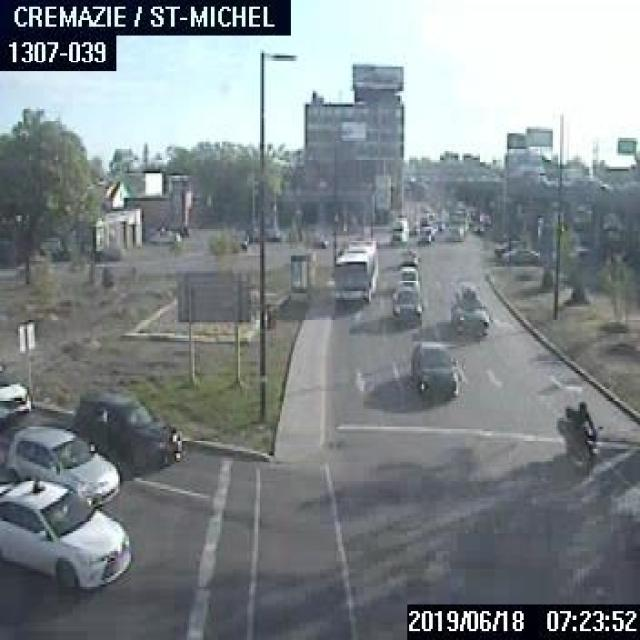bus: (329, 234, 378, 302)
vehicle: (0, 475, 129, 589), (71, 388, 180, 474), (4, 424, 116, 504), (408, 339, 458, 393), (0, 356, 31, 422), (447, 286, 489, 334), (564, 400, 594, 467), (391, 284, 422, 318), (500, 248, 538, 264), (445, 210, 465, 238), (389, 214, 408, 242), (396, 264, 418, 288), (148, 227, 179, 243), (399, 247, 419, 263), (469, 220, 486, 233), (416, 227, 428, 243), (420, 224, 433, 238)
